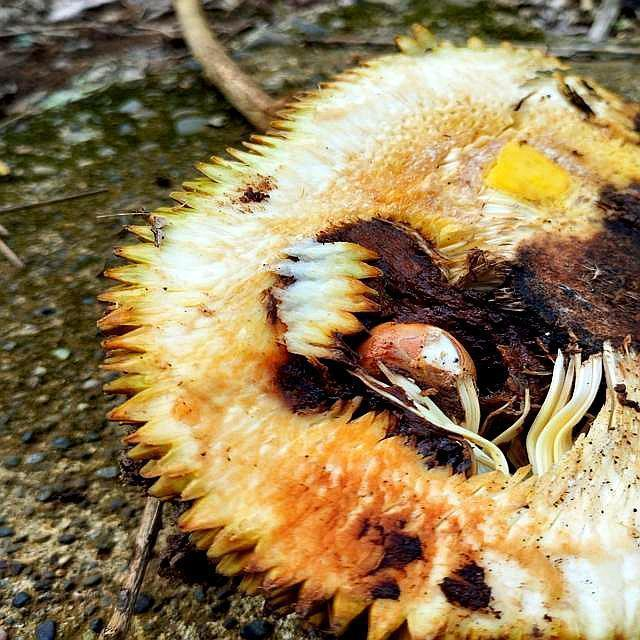Biodegradable: (159, 85, 640, 640)
